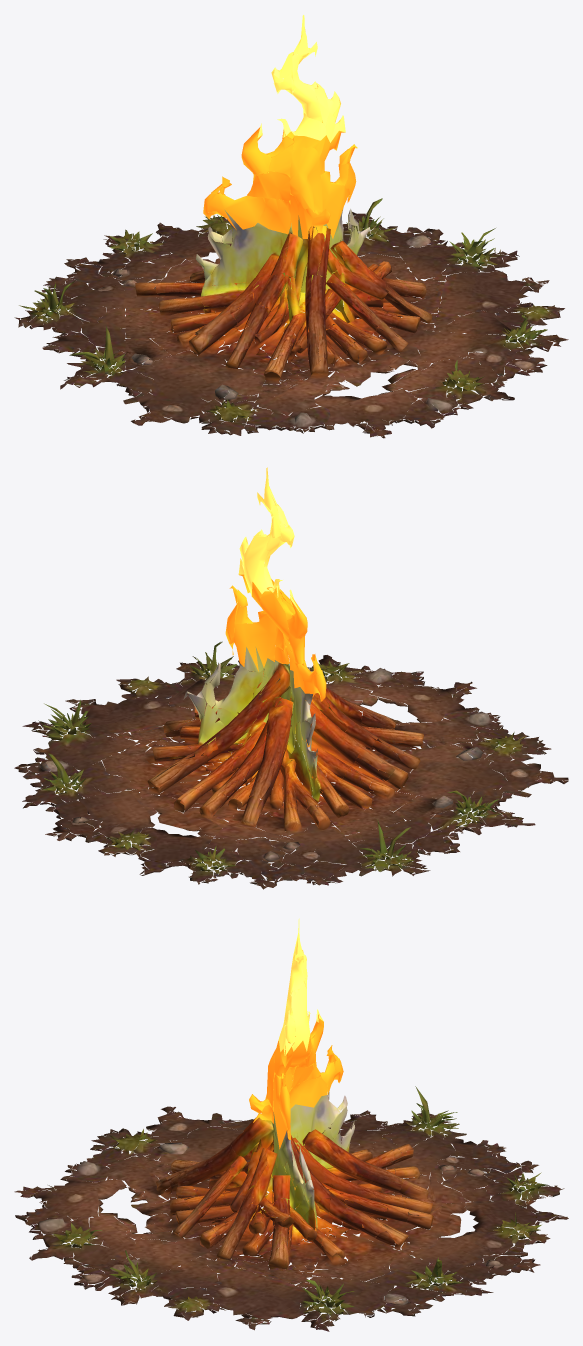
File: feu_camp_t1.glb
The picture shows the model from 3 angles, top to bottom: view 1: azimuth 30°, elevation 25°; view 2: azimuth 150°, elevation 25°; view 3: azimuth 270°, elevation 25°; orthographic projection.
Parts seen in each view (by area): view 1: feu_camp_t1; view 2: feu_camp_t1; view 3: feu_camp_t1.
Part boxes in pixels (box(x1,y1,x2,y2)): feu_camp_t1: box(14, 15, 568, 438); feu_camp_t1: box(14, 467, 568, 889); feu_camp_t1: box(14, 918, 568, 1331).
Bounding box in the file's own units: 0.9984 × 0.6045 × 0.9915.
3 materials, 1 textured.
